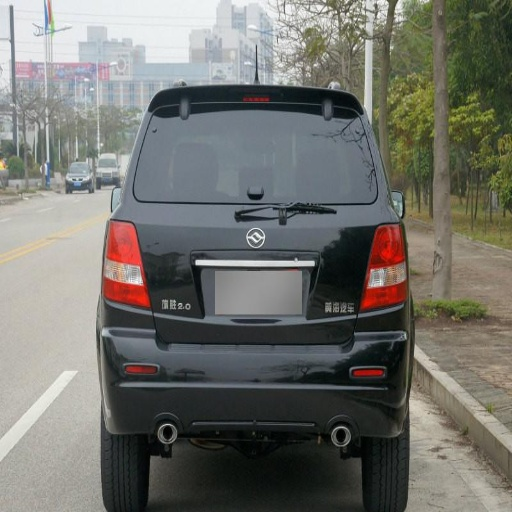_background_: (102, 299, 409, 442)
back_bumper: (137, 102, 379, 199)
back_left_door: (103, 218, 151, 310)
back_right_door: (361, 219, 407, 313)
right_mirror: (264, 191, 383, 340)
tailgate: (123, 199, 337, 377)
trunk: (358, 430, 408, 511), (101, 436, 148, 511)
